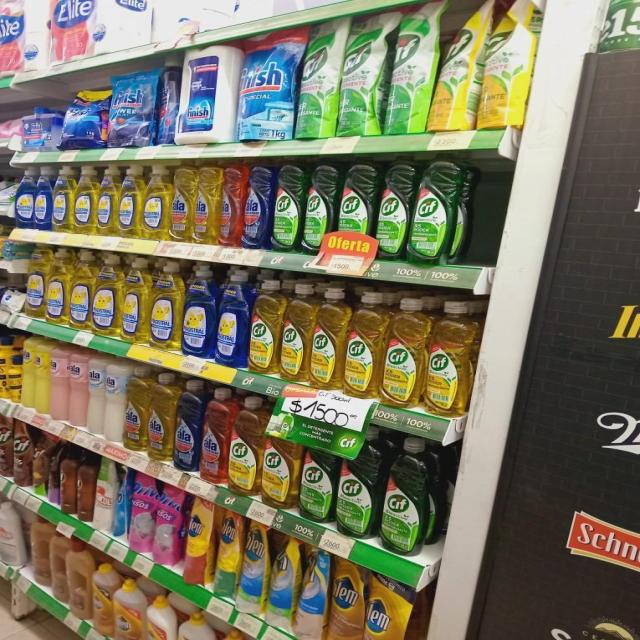ala_conc_amarillo: (148, 372, 174, 462), (196, 163, 221, 245), (125, 366, 148, 452), (171, 163, 195, 243), (582, 614, 640, 640)
ala_conc_azul: (174, 378, 200, 474), (243, 164, 272, 250)
ala_conc_rojo: (201, 386, 228, 484), (221, 163, 243, 248)
ala_crem_blanco: (105, 359, 124, 444), (88, 354, 104, 436)
ala_crem_rosado: (69, 348, 87, 428)
cif_conc_bot_amarilla: (426, 299, 472, 416), (382, 296, 424, 407), (344, 292, 382, 398), (311, 288, 344, 389), (228, 395, 260, 496), (249, 278, 280, 375), (281, 284, 310, 382), (262, 433, 298, 508)
cif_conc_botella_verde: (381, 437, 428, 555), (409, 158, 459, 266), (336, 431, 378, 539), (336, 162, 374, 258), (376, 159, 409, 261), (303, 163, 334, 255), (299, 447, 334, 523), (273, 164, 302, 253)
cif_conc_sachet_amarillo: (434, 2, 479, 132)
cif_conc_sachet_verde: (339, 12, 383, 136)
magistral_con_amarillo: (150, 261, 181, 351), (92, 254, 121, 336), (122, 258, 149, 344), (143, 166, 170, 240), (69, 250, 92, 330), (119, 165, 142, 238), (46, 249, 68, 324), (74, 165, 96, 234), (97, 165, 118, 236), (25, 246, 45, 318), (52, 165, 72, 233)
magistral_con_azul: (215, 268, 248, 368), (182, 264, 215, 358), (16, 167, 34, 229), (35, 166, 51, 231)
